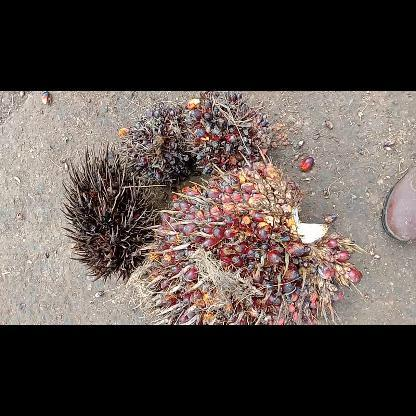Janjang kosong: (56, 139, 160, 285)
TBS abnormal: (178, 91, 274, 175), (116, 101, 194, 187)
TBS masak: (122, 158, 364, 324)
